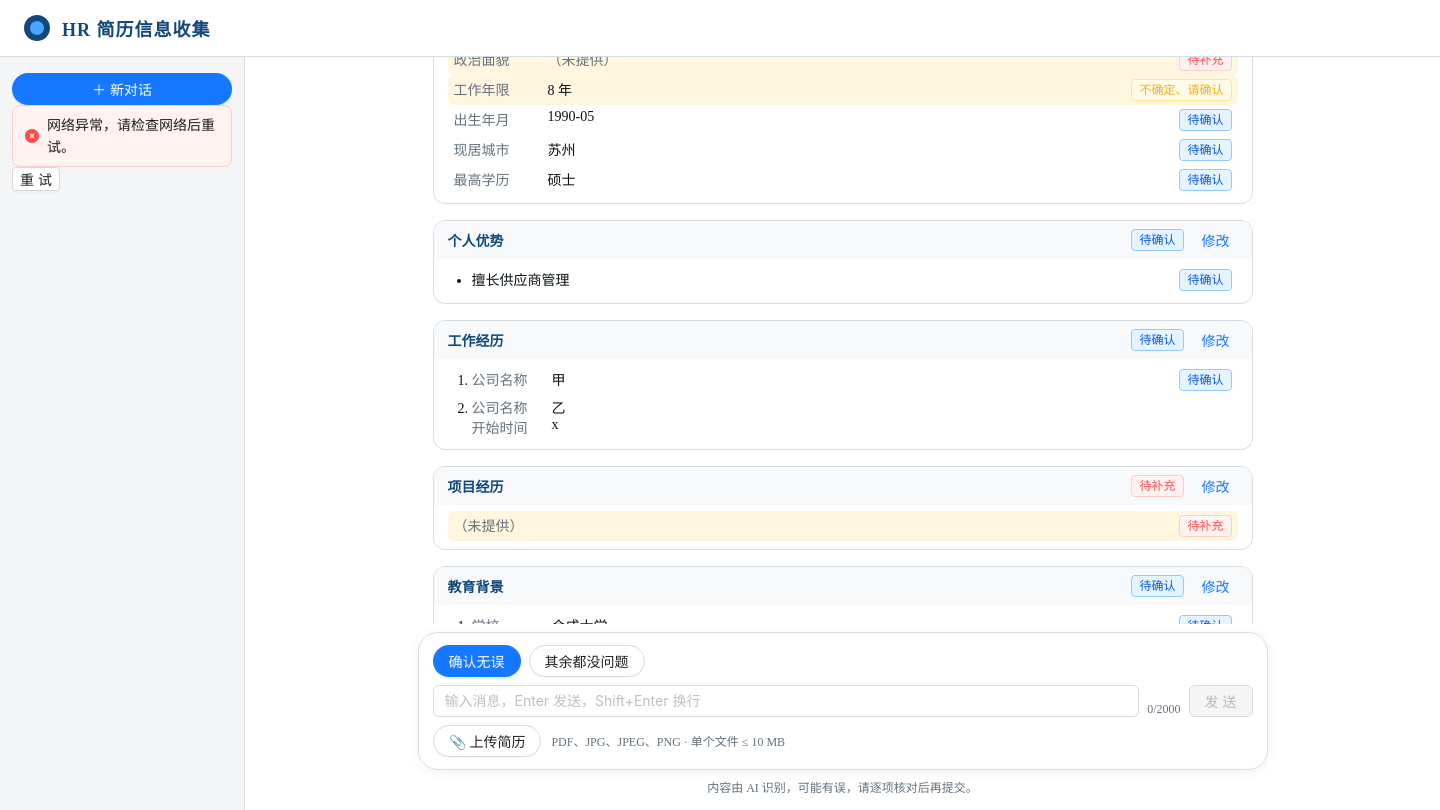
it: experience lists (REQ-FE-03.3) › shows backend 422 details at the item they point to, and clears them when the list is edited
Earlier steps of the test are not shown.
(page scrolled)
Click the button "修改" in the row of "工作经历" at [1216, 340], box left=1194, top=328, right=1238, bottom=352
(page scrolled)
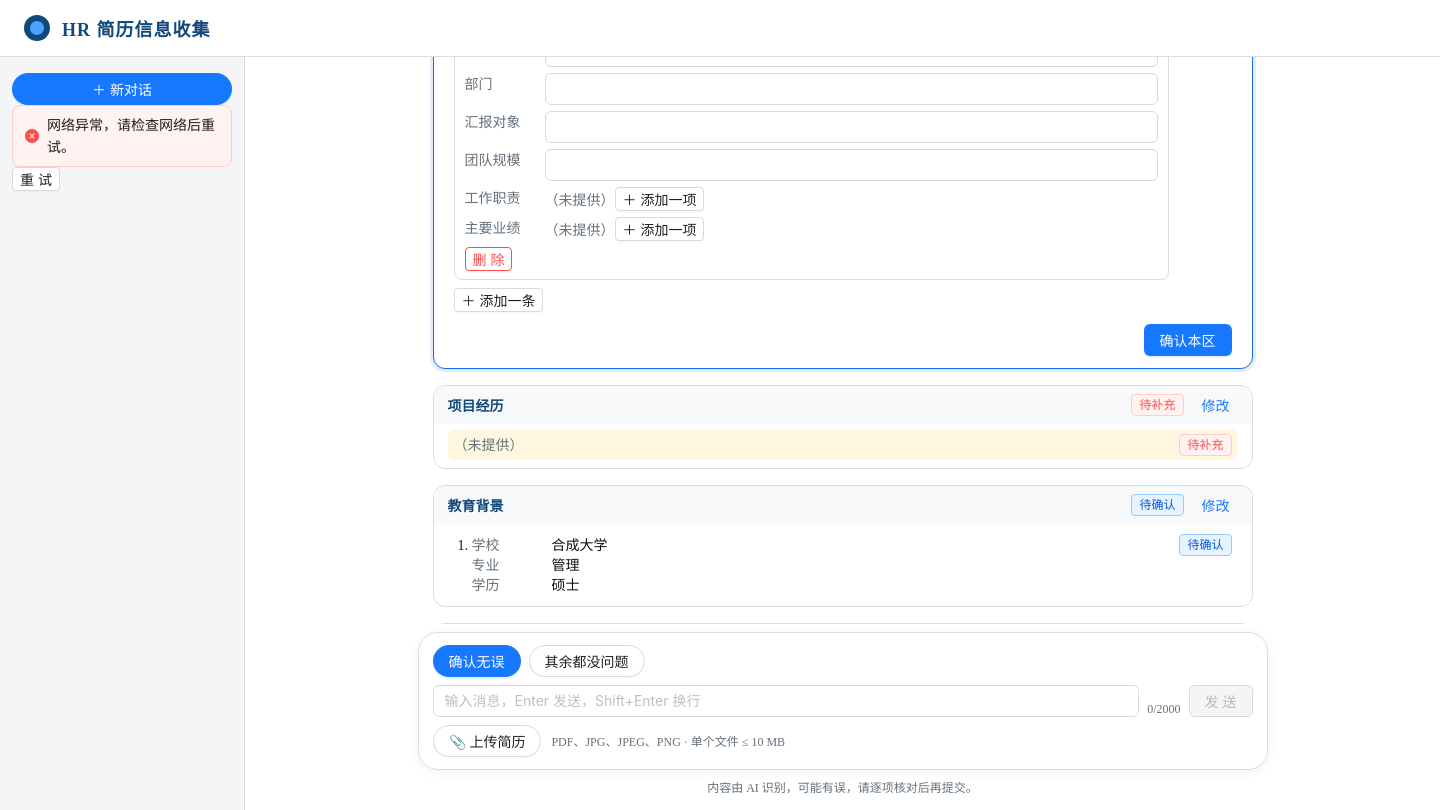
Click the button "确认本区" at [1188, 340], box left=1144, top=324, right=1232, bottom=356
(page scrolled)
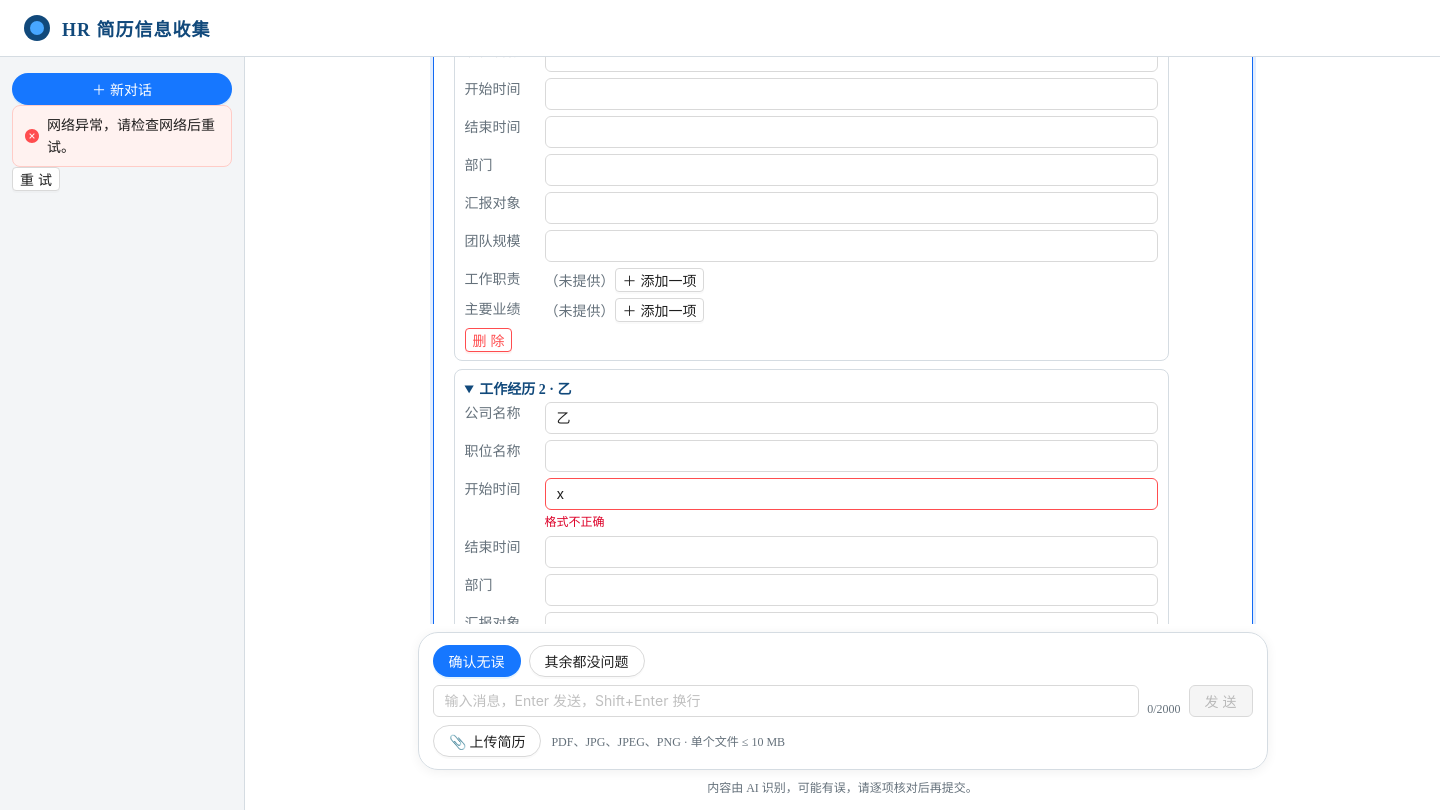
Now the text "格式不正确" is shown, box left=544, top=515, right=604, bottom=529
Click the button named "删除这一条" at [488, 340], box left=464, top=328, right=512, bottom=352
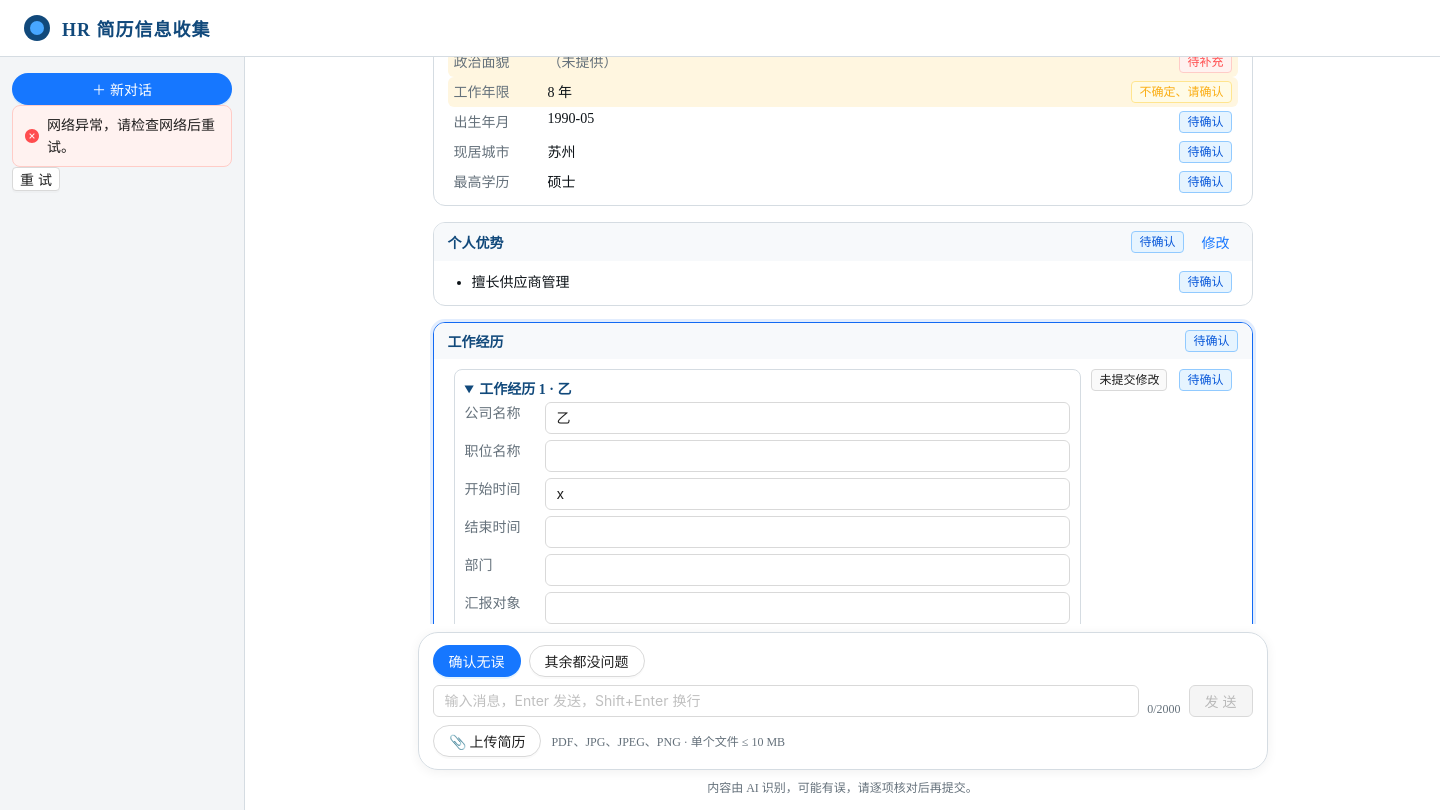
Now the text "格式不正确" is gone
